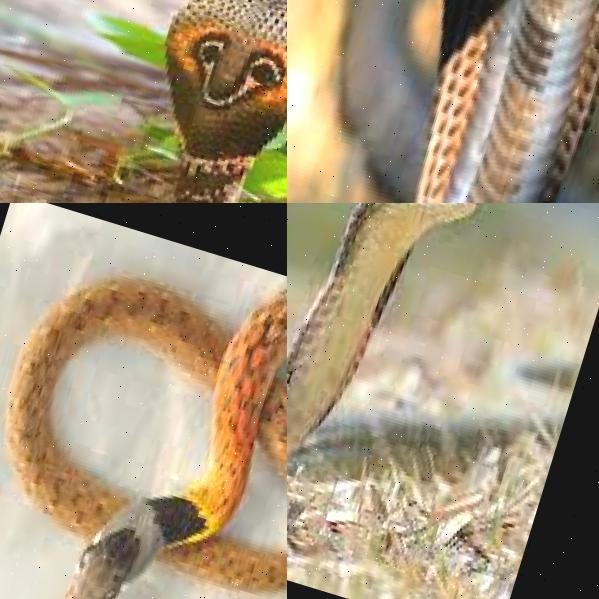snake: (0, 206, 287, 599), (287, 203, 495, 591), (0, 0, 287, 203), (333, 0, 599, 203)
